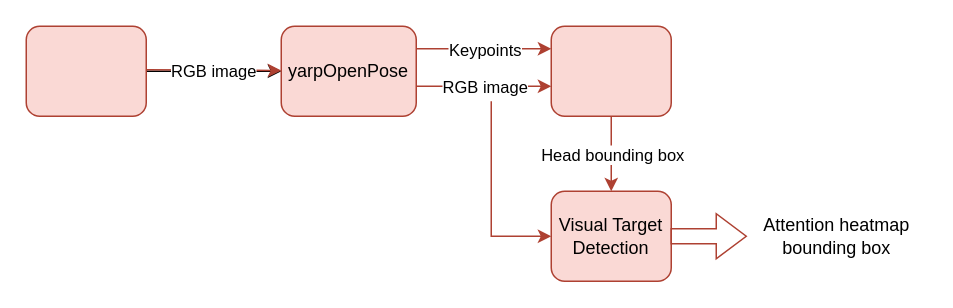
This 953x308 diagram has some shape labels left out. Each missing label, with the centre of its shape:
Face Detection: [610,70]
RealSense D415: [85,70]
